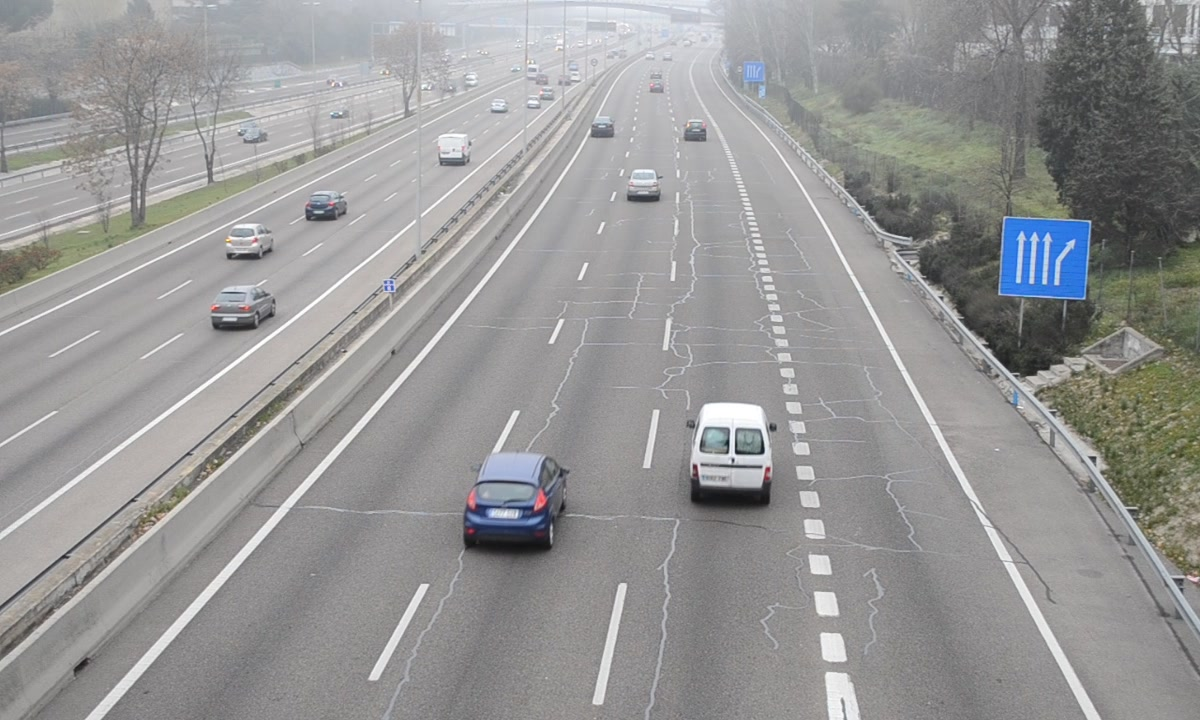car: (465, 454, 566, 543), (627, 168, 662, 199), (590, 114, 615, 137), (684, 119, 707, 142)
van: (691, 403, 774, 499)
